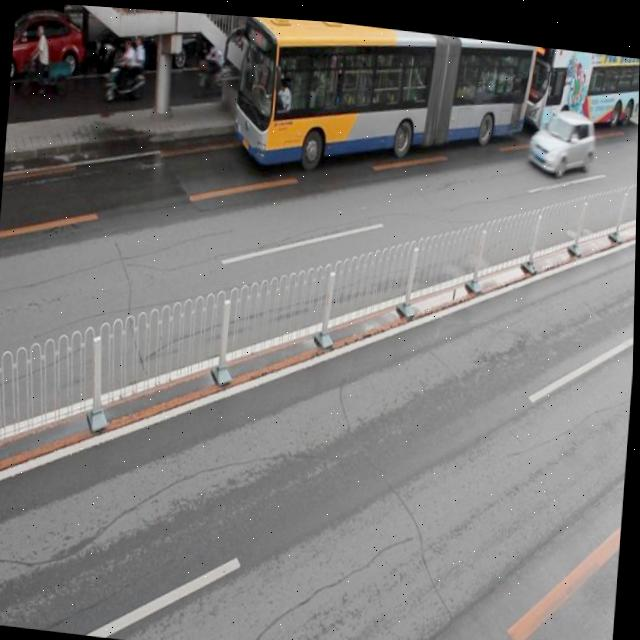car: (94, 5, 198, 71), (11, 6, 87, 85), (526, 98, 596, 172), (296, 16, 377, 73), (208, 11, 283, 68)
van: (233, 12, 534, 176), (510, 37, 640, 131)
